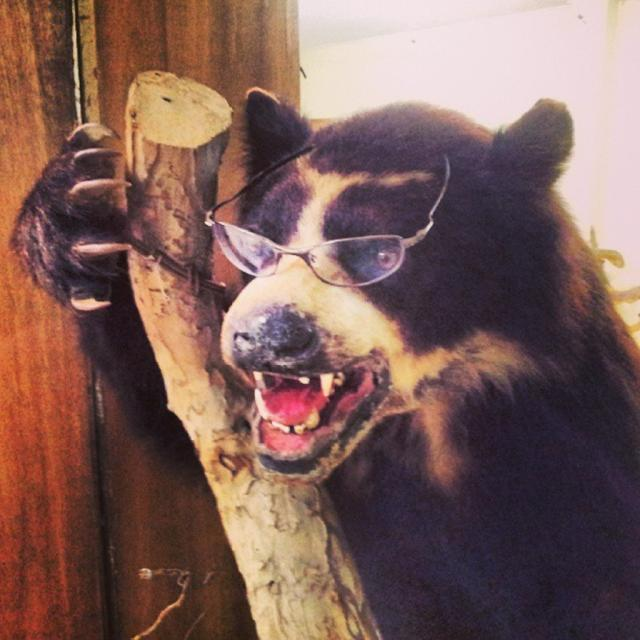Buffalo: (10, 97, 639, 639)
